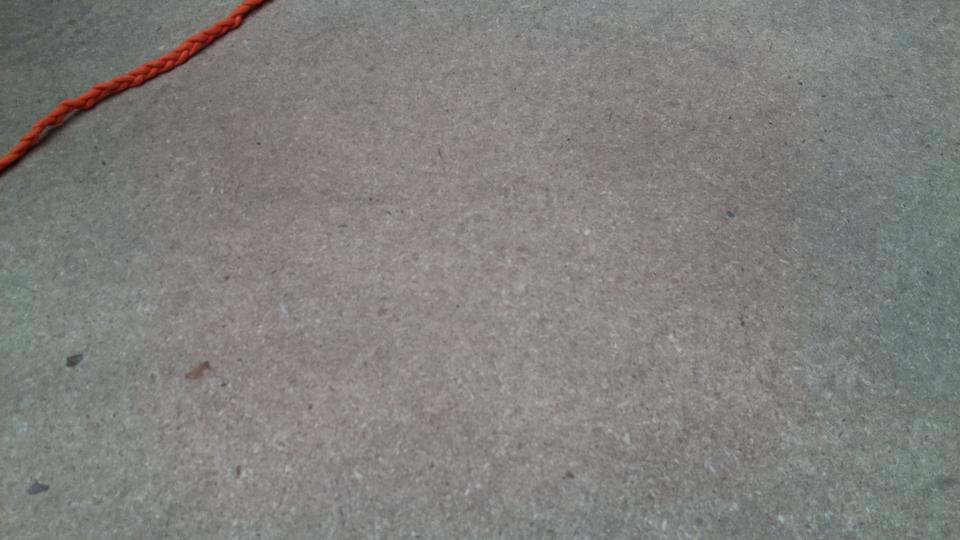rope: (1, 1, 250, 168)
